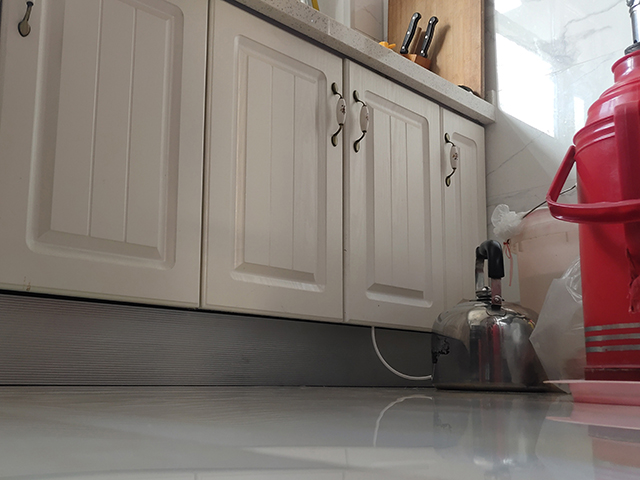cabinet: (1, 1, 497, 387)
wire: (370, 326, 433, 383)
